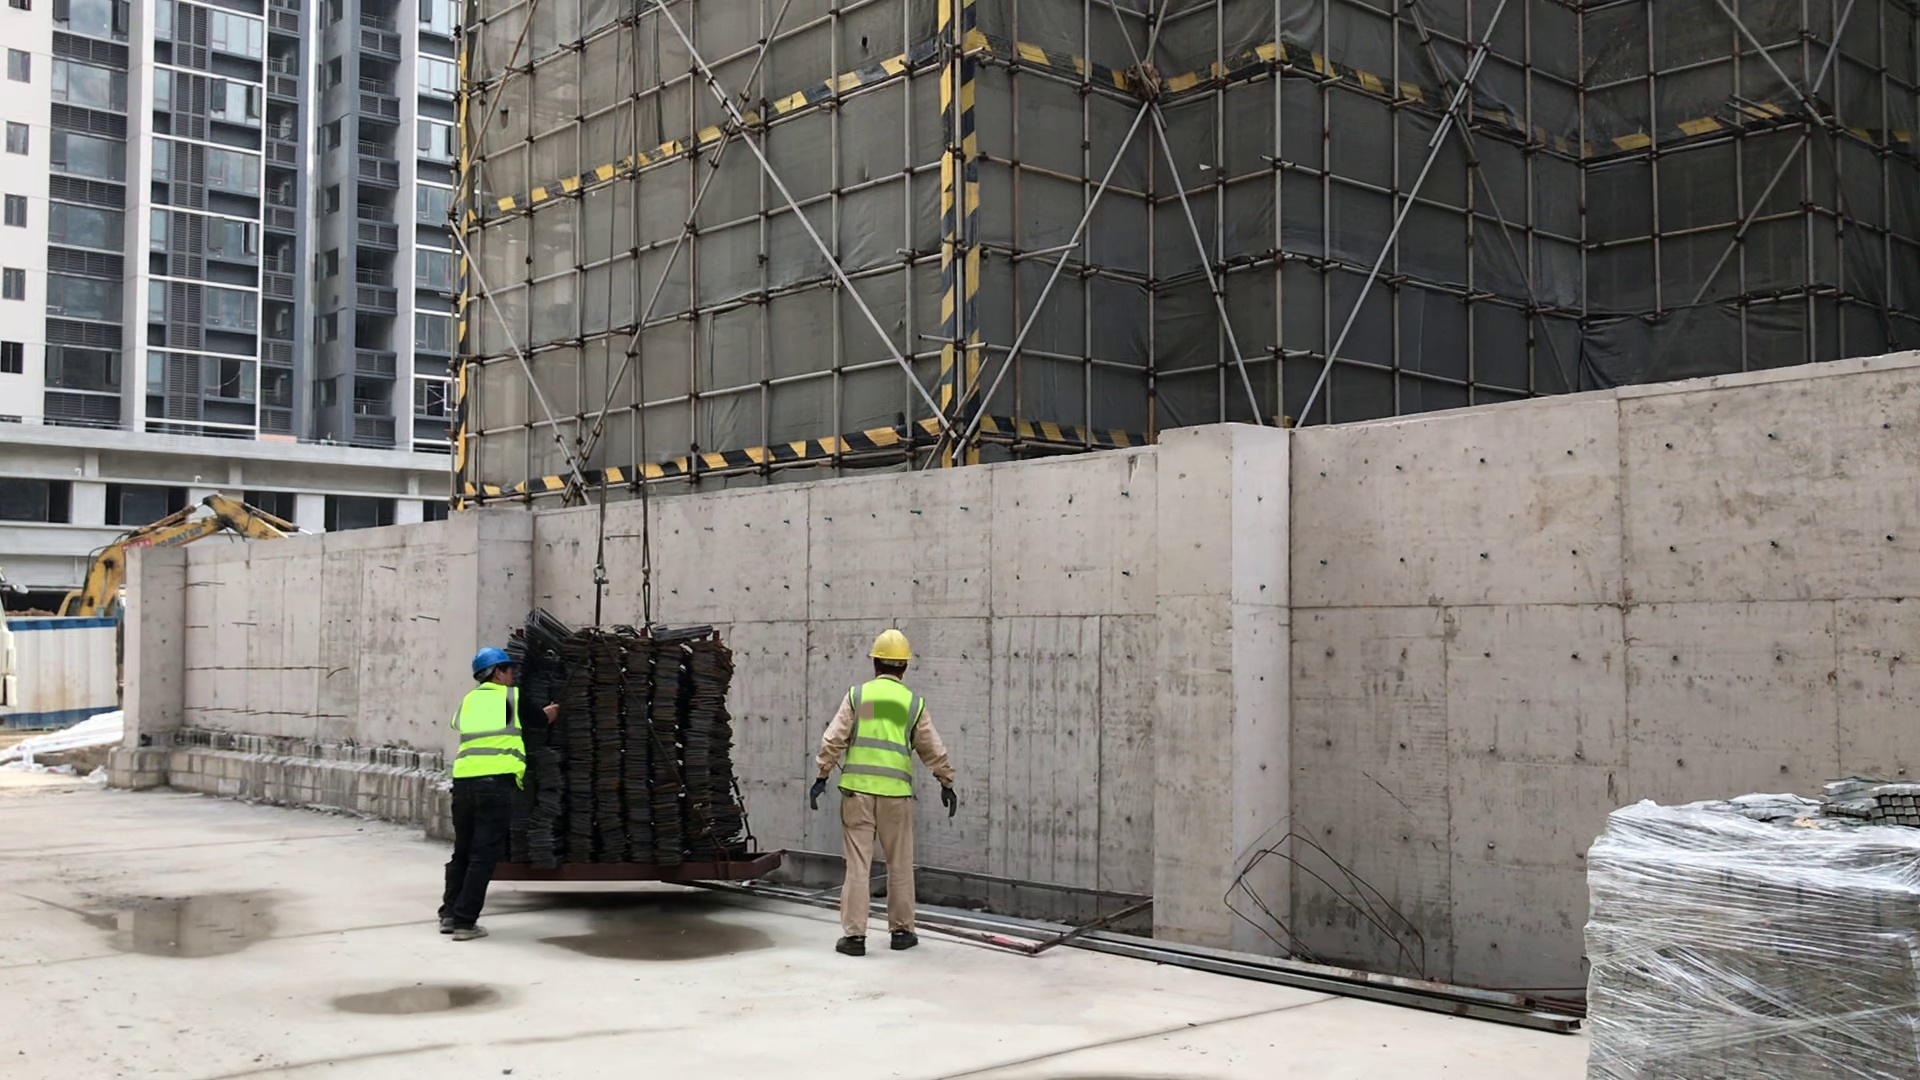helmet: (865, 618, 919, 667), (469, 642, 515, 678)
person: (825, 619, 962, 958), (450, 634, 523, 943)
vest: (850, 675, 918, 808), (455, 686, 523, 790)
